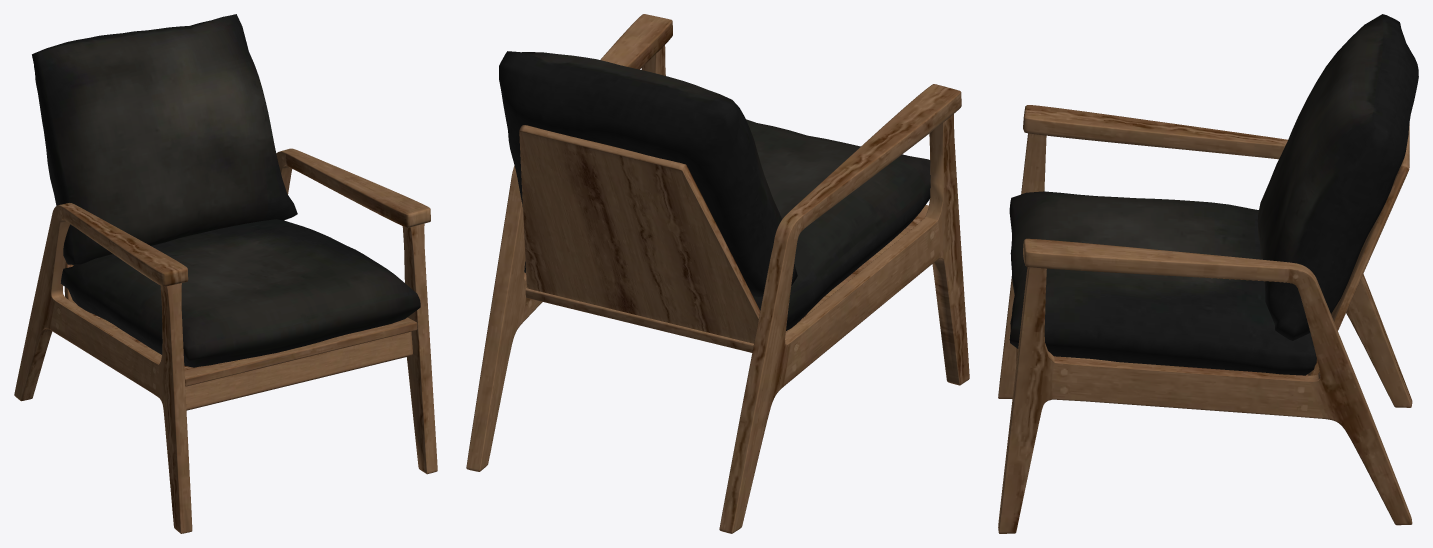
Rendered from modern_arm_chair_01.glb.
The picture shows the model from 3 angles, left to right: view 1: azimuth 30°, elevation 25°; view 2: azimuth 150°, elevation 25°; view 3: azimuth 270°, elevation 25°; orthographic projection. The views are drawn at different scales.
Visible parts, largest first — view 1: modern_arm_chair_01; view 2: modern_arm_chair_01; view 3: modern_arm_chair_01.
Part boxes in pixels (<box>): modern_arm_chair_01: <box>14,14,437,533</box>; modern_arm_chair_01: <box>466,14,969,533</box>; modern_arm_chair_01: <box>998,14,1418,533</box>.
Size of the model in its own units: 0.8203 by 1.02 by 0.9866.
Materials: 2 (2 with a texture image).
